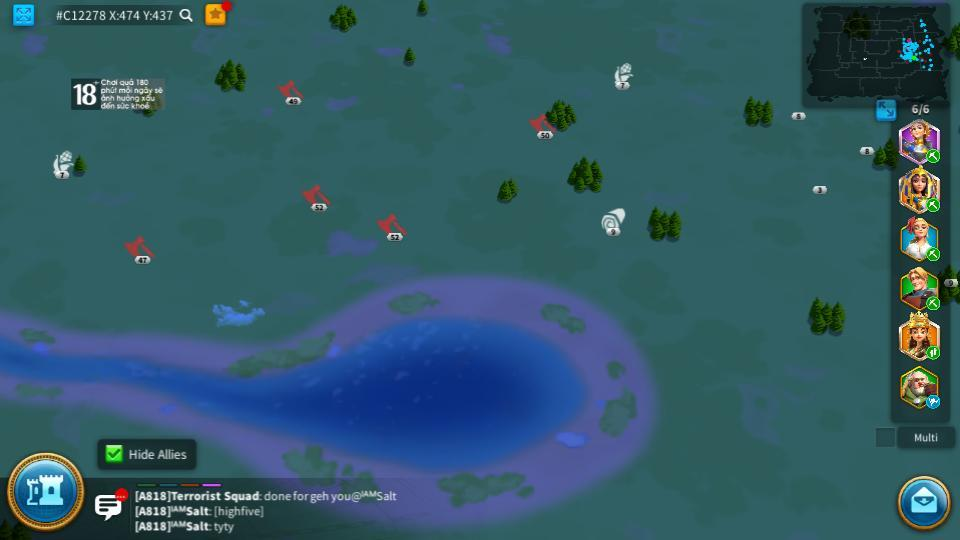march_farming: (925, 198, 941, 213), (925, 297, 941, 310), (926, 250, 940, 261)
march_idle: (925, 396, 942, 408)
march_marching: (925, 347, 942, 359), (925, 150, 941, 162)
